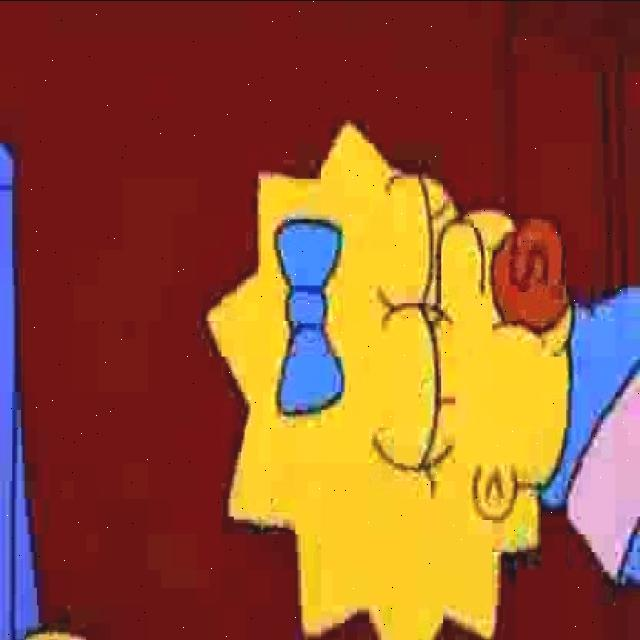Maggie Simpson: (200, 120, 576, 640)
